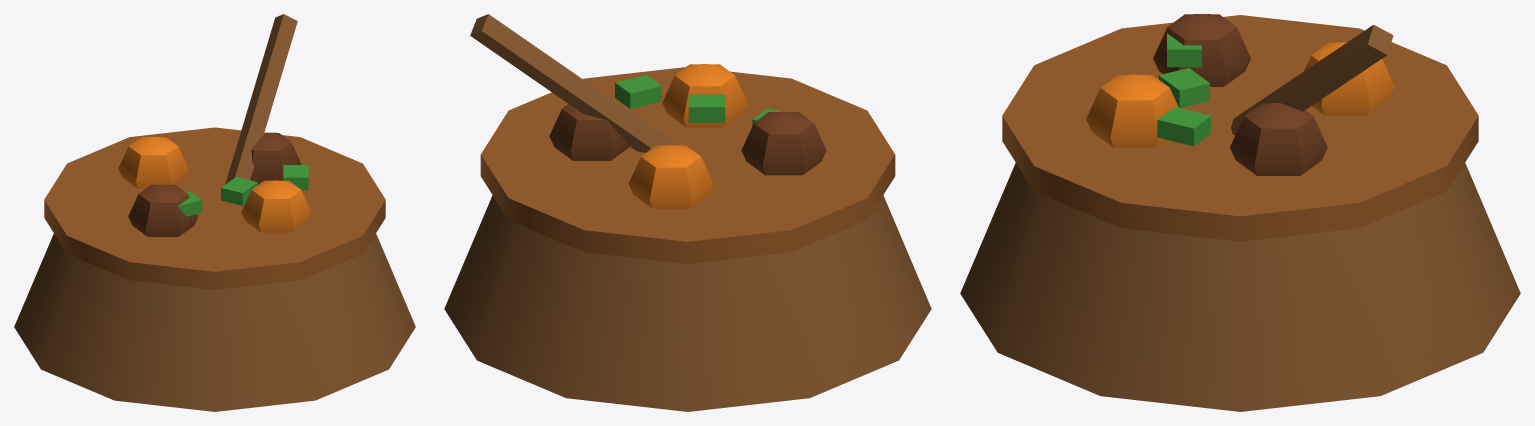
The model's file is item_stew.glb.
The picture shows the model from 3 angles, left to right: view 1: azimuth 30°, elevation 25°; view 2: azimuth 150°, elevation 25°; view 3: azimuth 270°, elevation 25°; orthographic projection. The views are drawn at different scales.
Visible parts, largest first — view 1: item_stew, item_stew_detail; view 2: item_stew, item_stew_detail; view 3: item_stew, item_stew_detail.
Part boxes in pixels (bbox=[...]): item_stew: bbox=[14, 14, 415, 411]; item_stew_detail: bbox=[178, 165, 308, 216]; item_stew: bbox=[444, 14, 931, 411]; item_stew_detail: bbox=[615, 75, 781, 125]; item_stew: bbox=[960, 14, 1520, 411]; item_stew_detail: bbox=[1157, 33, 1211, 146].
Size of the model in its own units: 0.4 by 0.2742 by 0.4.
